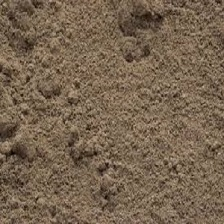sandy_soil: (14, 13, 208, 197)
